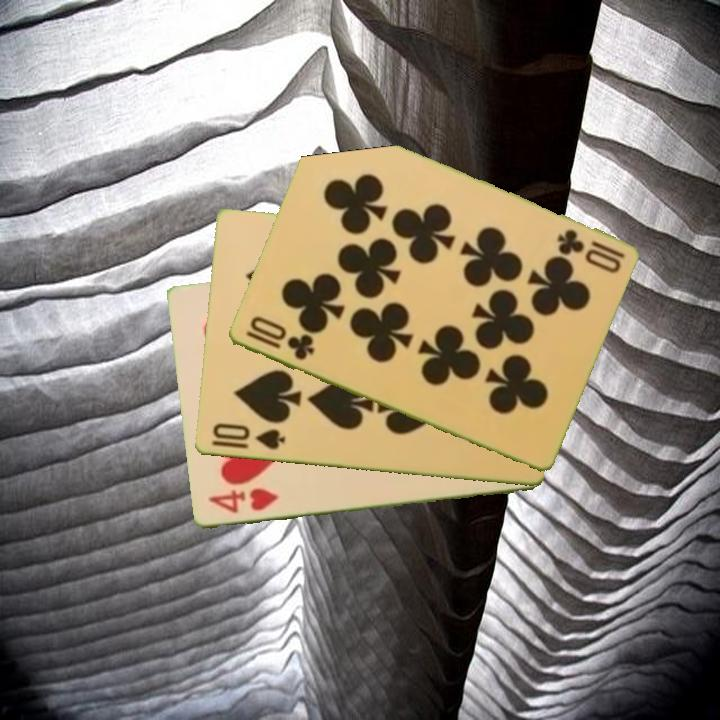10c: (241, 313, 317, 364), (553, 225, 627, 262)
10s: (209, 420, 288, 453)
4h: (205, 485, 281, 516)
